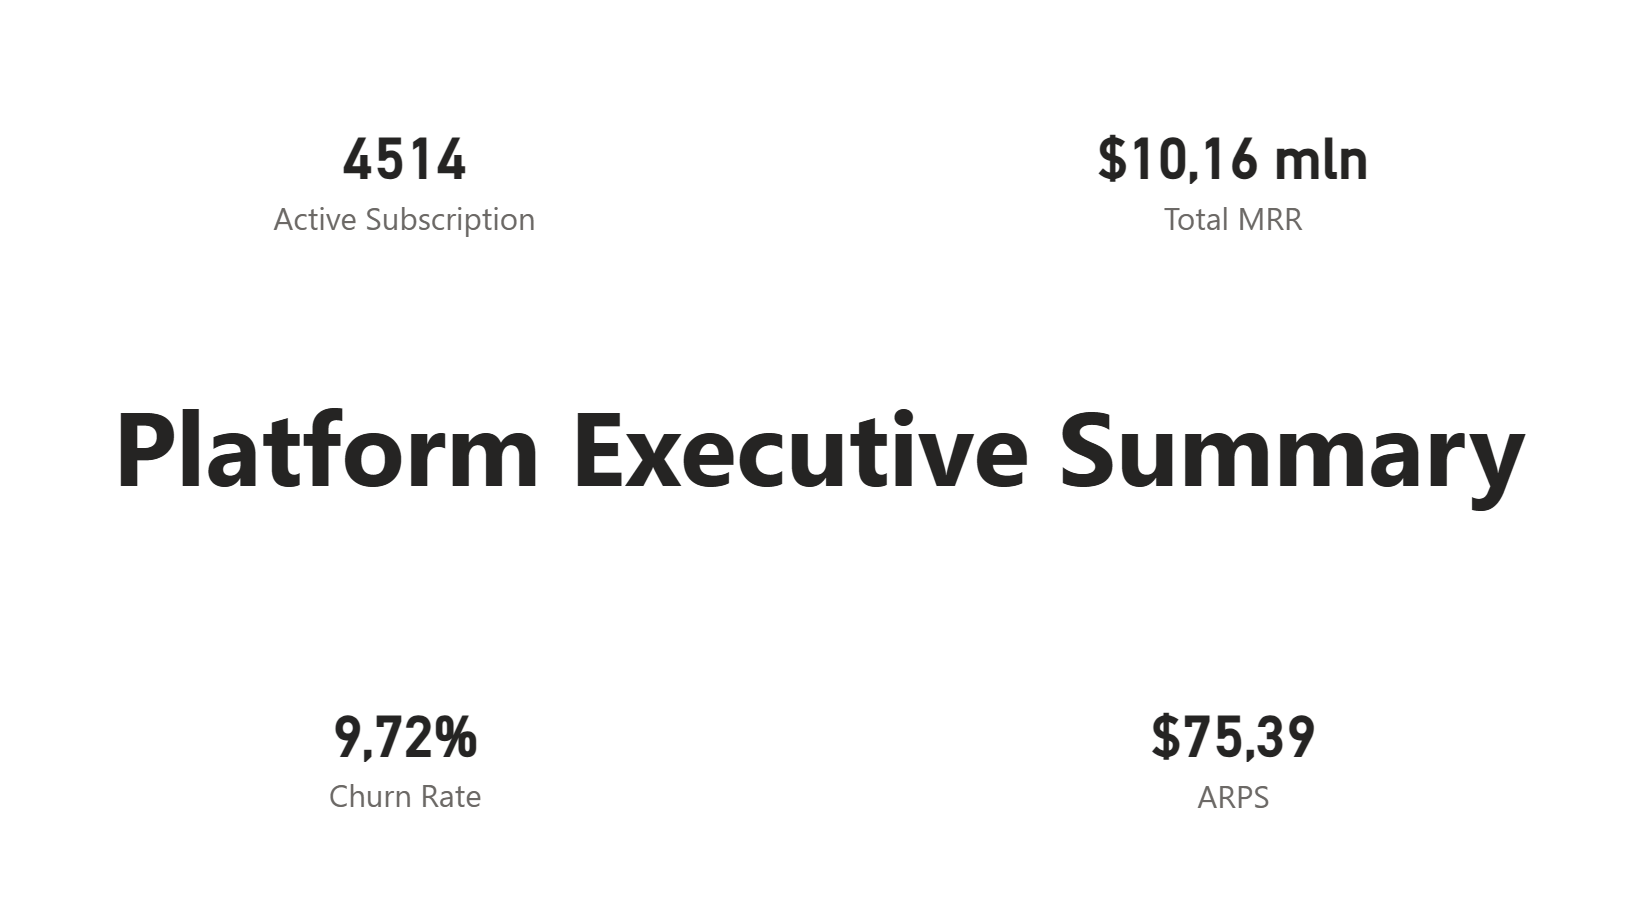

What the dashboard file says about the page in this screenshot:
{"tool":"powerbi","page":{"name":"Executive Summary","canvas":[1280,720],"ordinal":0},"visuals":[{"type":"card","fields":{"Values":["Sum(main_kpi.active_subs_number)"]},"box":[0,0,639.6,280.4],"z":0},{"type":"card","fields":{"Values":["Avg(main_kpi.arps)"]},"box":[641,453,639,267],"z":1000},{"type":"card","fields":{"Values":["Avg(main_kpi.churn_rate)"]},"box":[1.2,453.1,638.5,266.5],"z":2000},{"type":"card","fields":{"Values":["Sum(main_kpi.total_mrr)"]},"box":[639.6,0,640.8,280.4],"z":3000},{"type":"textbox","box":[0,290.8,1280.4,162.2],"z":4000}]}

Visuals, with their boxes in screenshot pixels (x1, y1, x2, y2), scaled from the page's 1280x720 canvas onto the 1635x910 screenshot:
card - Sum(main_kpi.active_subs_number): (left=0, top=0, right=817, bottom=354)
card - Avg(main_kpi.arps): (left=819, top=573, right=1634, bottom=909)
card - Avg(main_kpi.churn_rate): (left=2, top=573, right=817, bottom=909)
card - Sum(main_kpi.total_mrr): (left=817, top=0, right=1634, bottom=354)
textbox: (left=0, top=368, right=1634, bottom=573)
